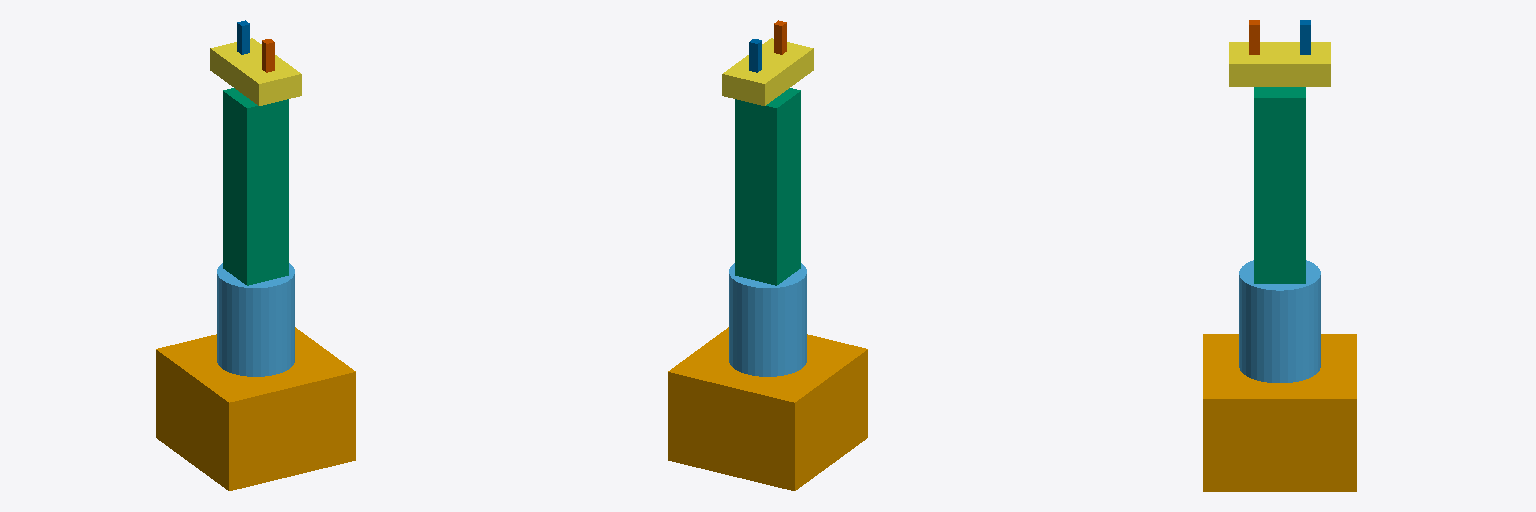
URDF robot description (test_arm):
<?xml version="1.0"?>
<robot name="test_arm">
  <link name="base_link">
    <visual><geometry><box size="0.3 0.3 0.2"/></geometry></visual>
    <collision><geometry><box size="0.3 0.3 0.2"/></geometry></collision>
  </link>
  <link name="shoulder">
    <inertial><mass value="2.0"/><inertia ixx="0.01" iyy="0.01" izz="0.01" ixy="0" ixz="0" iyz="0"/></inertial>
    <visual><geometry><cylinder radius="0.08" length="0.2"/></geometry></visual>
    <collision><geometry><cylinder radius="0.08" length="0.2"/></geometry></collision>
  </link>
  <link name="upper_arm">
    <visual><origin xyz="0 0 0.2"/><geometry><mesh filename="meshes/upper_arm.dae"/></geometry></visual>
    <collision><origin xyz="0 0 0.2"/><geometry><mesh filename="meshes/upper_arm.dae"/></geometry></collision>
  </link>
  <link name="palm">
    <visual><geometry><box size="0.1 0.2 0.05"/></geometry></visual>
    <collision><geometry><box size="0.1 0.2 0.05"/></geometry></collision>
  </link>
  <link name="finger_left">
    <visual><geometry><box size="0.02 0.02 0.08"/></geometry></visual>
    <collision><geometry><box size="0.02 0.02 0.08"/></geometry></collision>
  </link>
  <link name="finger_right">
    <visual><geometry><box size="0.02 0.02 0.08"/></geometry></visual>
    <collision><geometry><box size="0.02 0.02 0.08"/></geometry></collision>
  </link>
  <joint name="joint_1" type="revolute">
    <parent link="base_link"/><child link="shoulder"/>
    <origin xyz="0 0 0.2"/><axis xyz="0 0 1"/>
    <limit lower="-3.14" upper="3.14" effort="100" velocity="2"/>
  </joint>
  <joint name="joint_2" type="revolute">
    <parent link="shoulder"/><child link="upper_arm"/>
    <origin xyz="0 0 0.1"/><axis xyz="0 1 0"/>
    <limit lower="-2.0" upper="2.0" effort="100" velocity="2"/>
  </joint>
  <joint name="palm_joint" type="fixed">
    <parent link="upper_arm"/><child link="palm"/><origin xyz="0 0 0.45"/>
  </joint>
  <joint name="finger_left_joint" type="prismatic">
    <parent link="palm"/><child link="finger_left"/>
    <origin xyz="0 0.05 0.05"/><axis xyz="0 1 0"/>
    <limit lower="0" upper="0.04" effort="50" velocity="0.2"/>
  </joint>
  <joint name="finger_right_joint" type="prismatic">
    <parent link="palm"/><child link="finger_right"/>
    <origin xyz="0 -0.05 0.05"/><axis xyz="0 1 0"/>
    <limit lower="-0.04" upper="0" effort="50" velocity="0.2"/>
    <mimic joint="finger_left_joint" multiplier="-1" offset="0"/>
  </joint>
</robot>

--- What the picture shows (computed from the rendered views, not written in the file) ---
Views: 3 orthographic renders of the robot side by side, from view 1: azimuth 30°, elevation 25°; view 2: azimuth 150°, elevation 25°; view 3: azimuth 270°, elevation 25°.
Model test_arm with 6 links and 5 joints (2 revolute, 2 prismatic, 1 fixed), rooted at base_link, posed all joints at 0.
Links seen in each view (by area): view 1: base_link, upper_arm, shoulder, palm; view 2: base_link, upper_arm, shoulder, palm; view 3: base_link, upper_arm, shoulder, palm.
Link boxes in pixels (left/top/right/bottom): base_link: left=156, top=327, right=355, bottom=490; upper_arm: left=223, top=88, right=288, bottom=285; shoulder: left=217, top=263, right=294, bottom=376; palm: left=210, top=38, right=301, bottom=105; base_link: left=668, top=327, right=867, bottom=490; upper_arm: left=735, top=88, right=800, bottom=285; shoulder: left=729, top=263, right=806, bottom=376; palm: left=722, top=38, right=813, bottom=105; base_link: left=1203, top=334, right=1356, bottom=491; upper_arm: left=1254, top=87, right=1305, bottom=283; shoulder: left=1239, top=260, right=1320, bottom=382; palm: left=1229, top=42, right=1330, bottom=86.
Size in the robot's own frame: 0.3 by 0.3 by 0.94 metres.
Meshes: 1 distinct files referenced, 1 mesh visuals loaded (1 Collada DAE).
